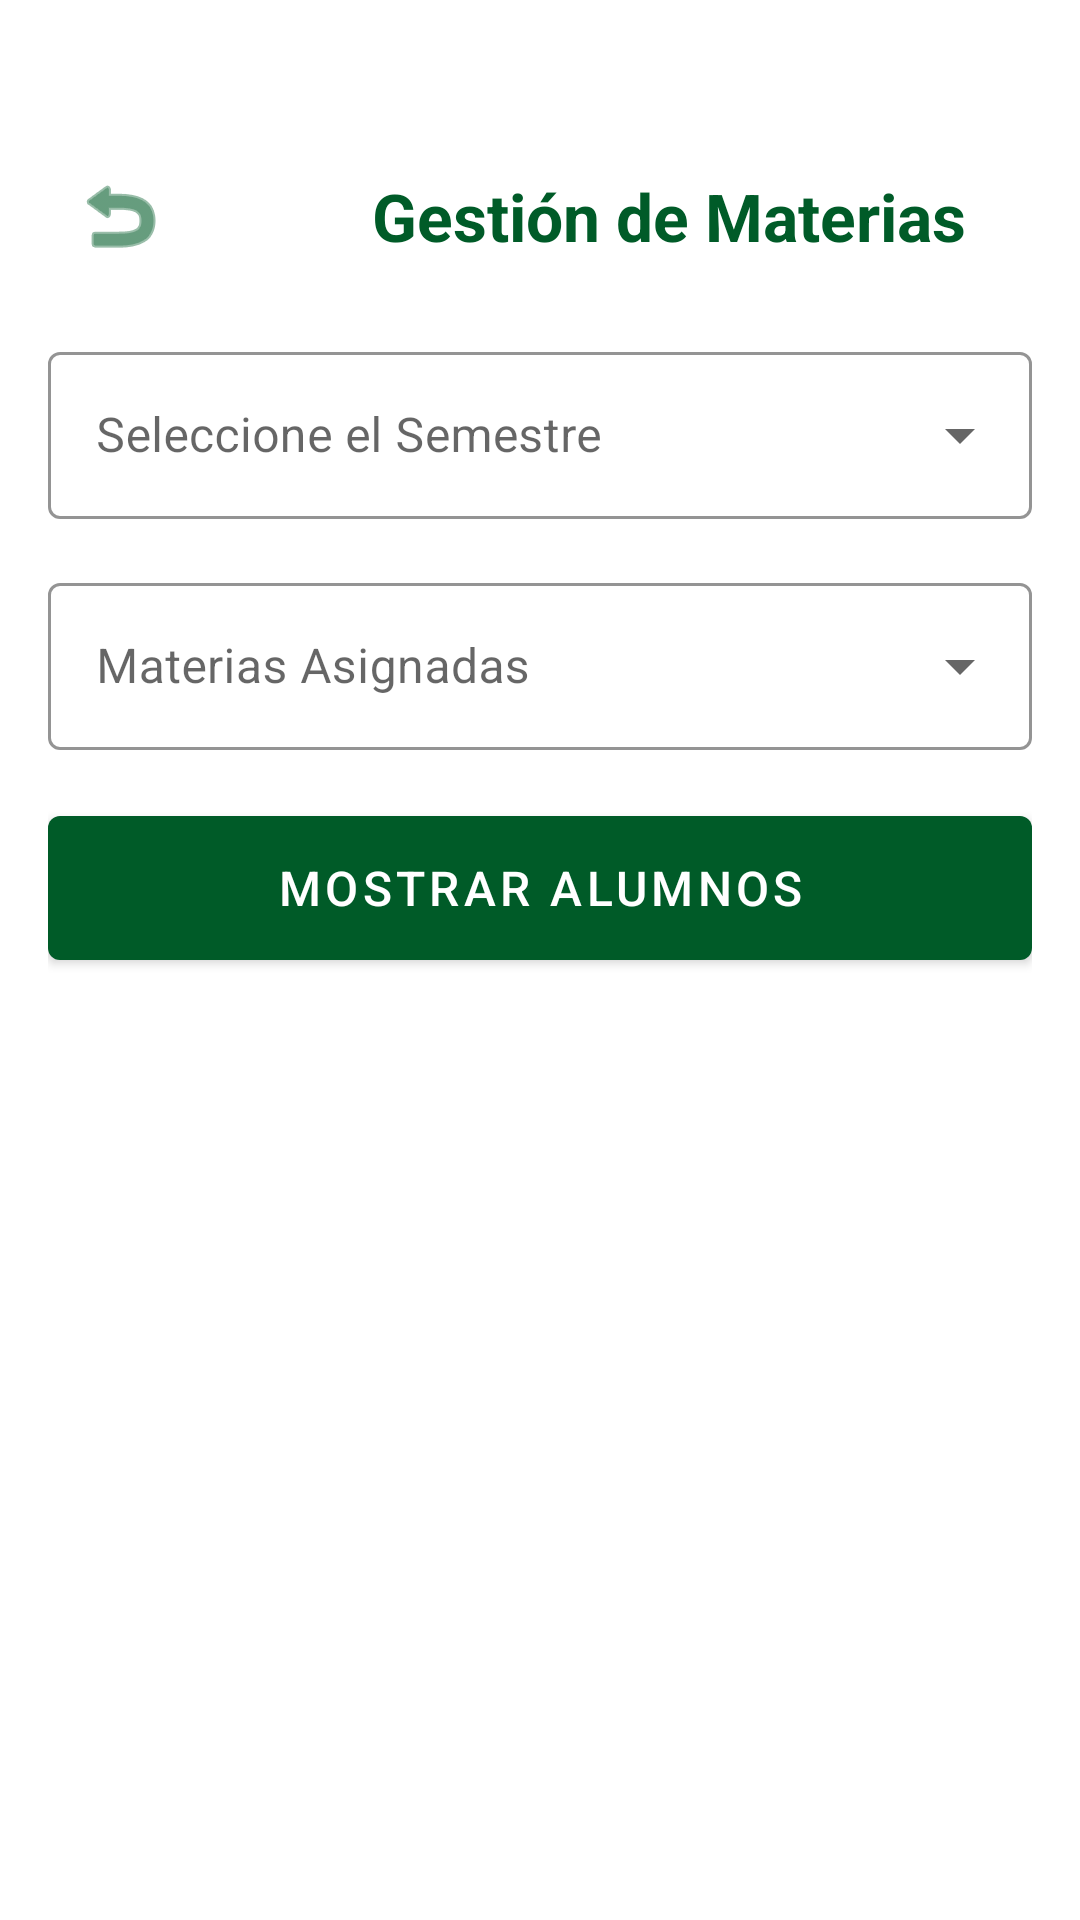

Screen size 1080px×1920px. Icon name, then its center in pixels as (x,y):
Volver: (121,216)
